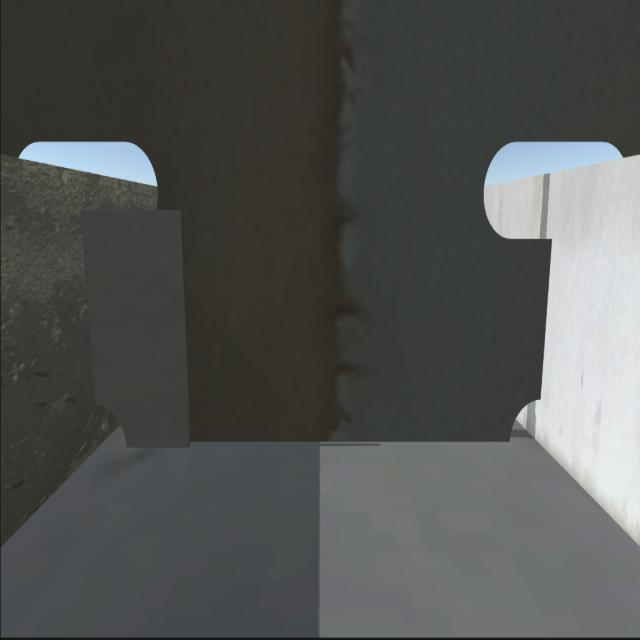fillet_hole: (509, 396, 544, 446), (94, 399, 128, 449)
fillet_yong_jeop_jang: (125, 427, 512, 443)
longi_yong_jeop_jang: (78, 218, 101, 400), (535, 240, 551, 403)
plate_CP01: (80, 210, 194, 443)
